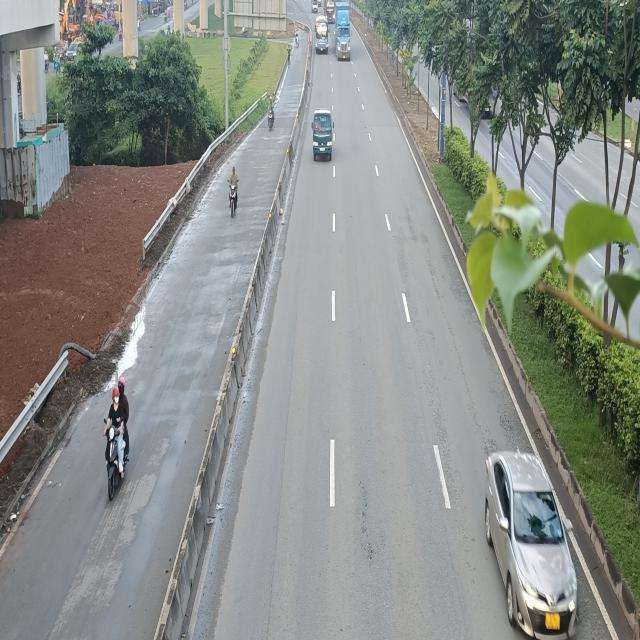car: (483, 451, 577, 637)
coach: (315, 16, 329, 54)
container: (335, 2, 353, 62)
truck: (310, 109, 334, 163)
